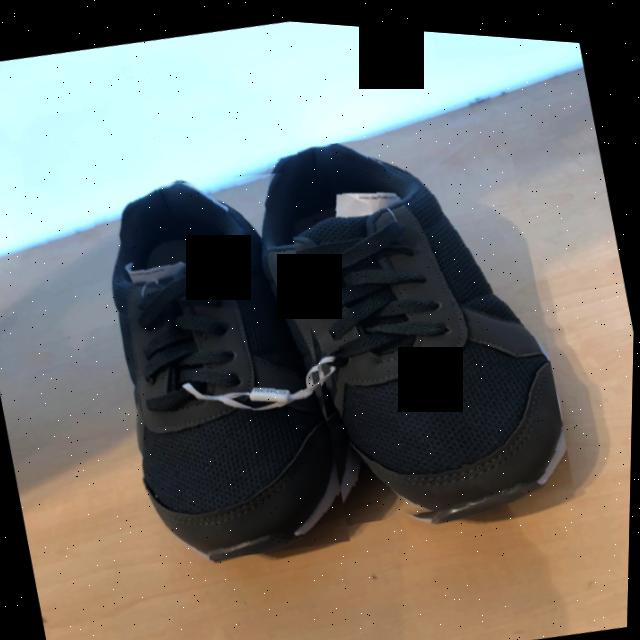shoe: (266, 136, 568, 504), (115, 178, 342, 556)
